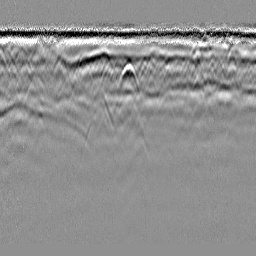cavity: (115, 62, 141, 95)
